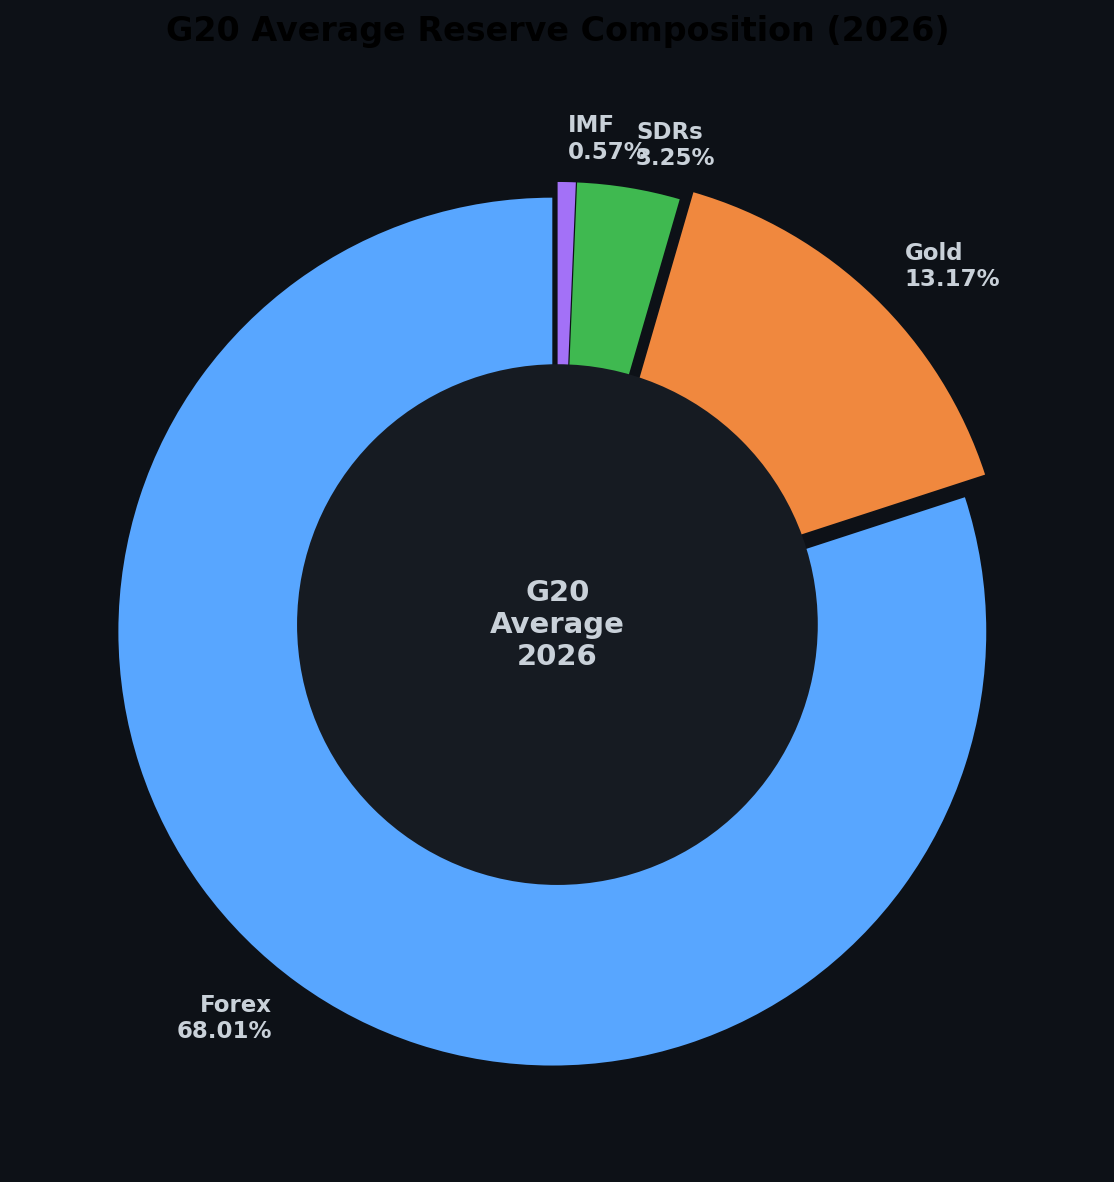

What the dashboard file says about the page in this screenshot:
{"tool":"powerbi","page":{"name":"Page 5","canvas":[1280,720],"ordinal":4},"visuals":[{"type":"donutChart","title":"G20 COUNTRIES AVERAGE COMPOSITION 2026","fields":{"Y":["Sum(G20_AVG_COMPOSITION_2026.AVG_FOREX_COMP)","Sum(G20_AVG_COMPOSITION_2026.AVG_IMF_COMP)","Sum(G20_AVG_COMPOSITION_2026.AVG_GOLD_COMP)","Sum(G20_AVG_COMPOSITION_2026.AVG_SDRs_COMP)"]},"box":[213.8,0,851.2,720],"z":1}]}

Visuals, with their boxes on the page's 1280x720 design canvas (x1, y1, x2, y2). These are canvas units, not pixel positions in the 1114x1182 screenshot, which may show the page scaled, cropped or inside an application window:
"G20 COUNTRIES AVERAGE COMPOSITION 2026" donutChart: <bbox>214, 0, 1065, 720</bbox>
